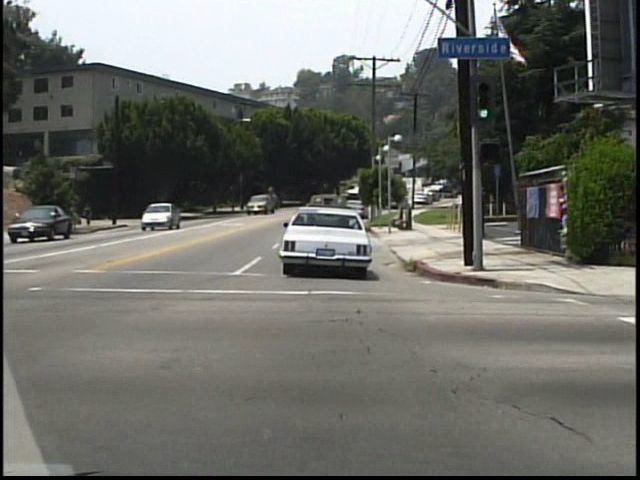person: (84, 203, 96, 227)
